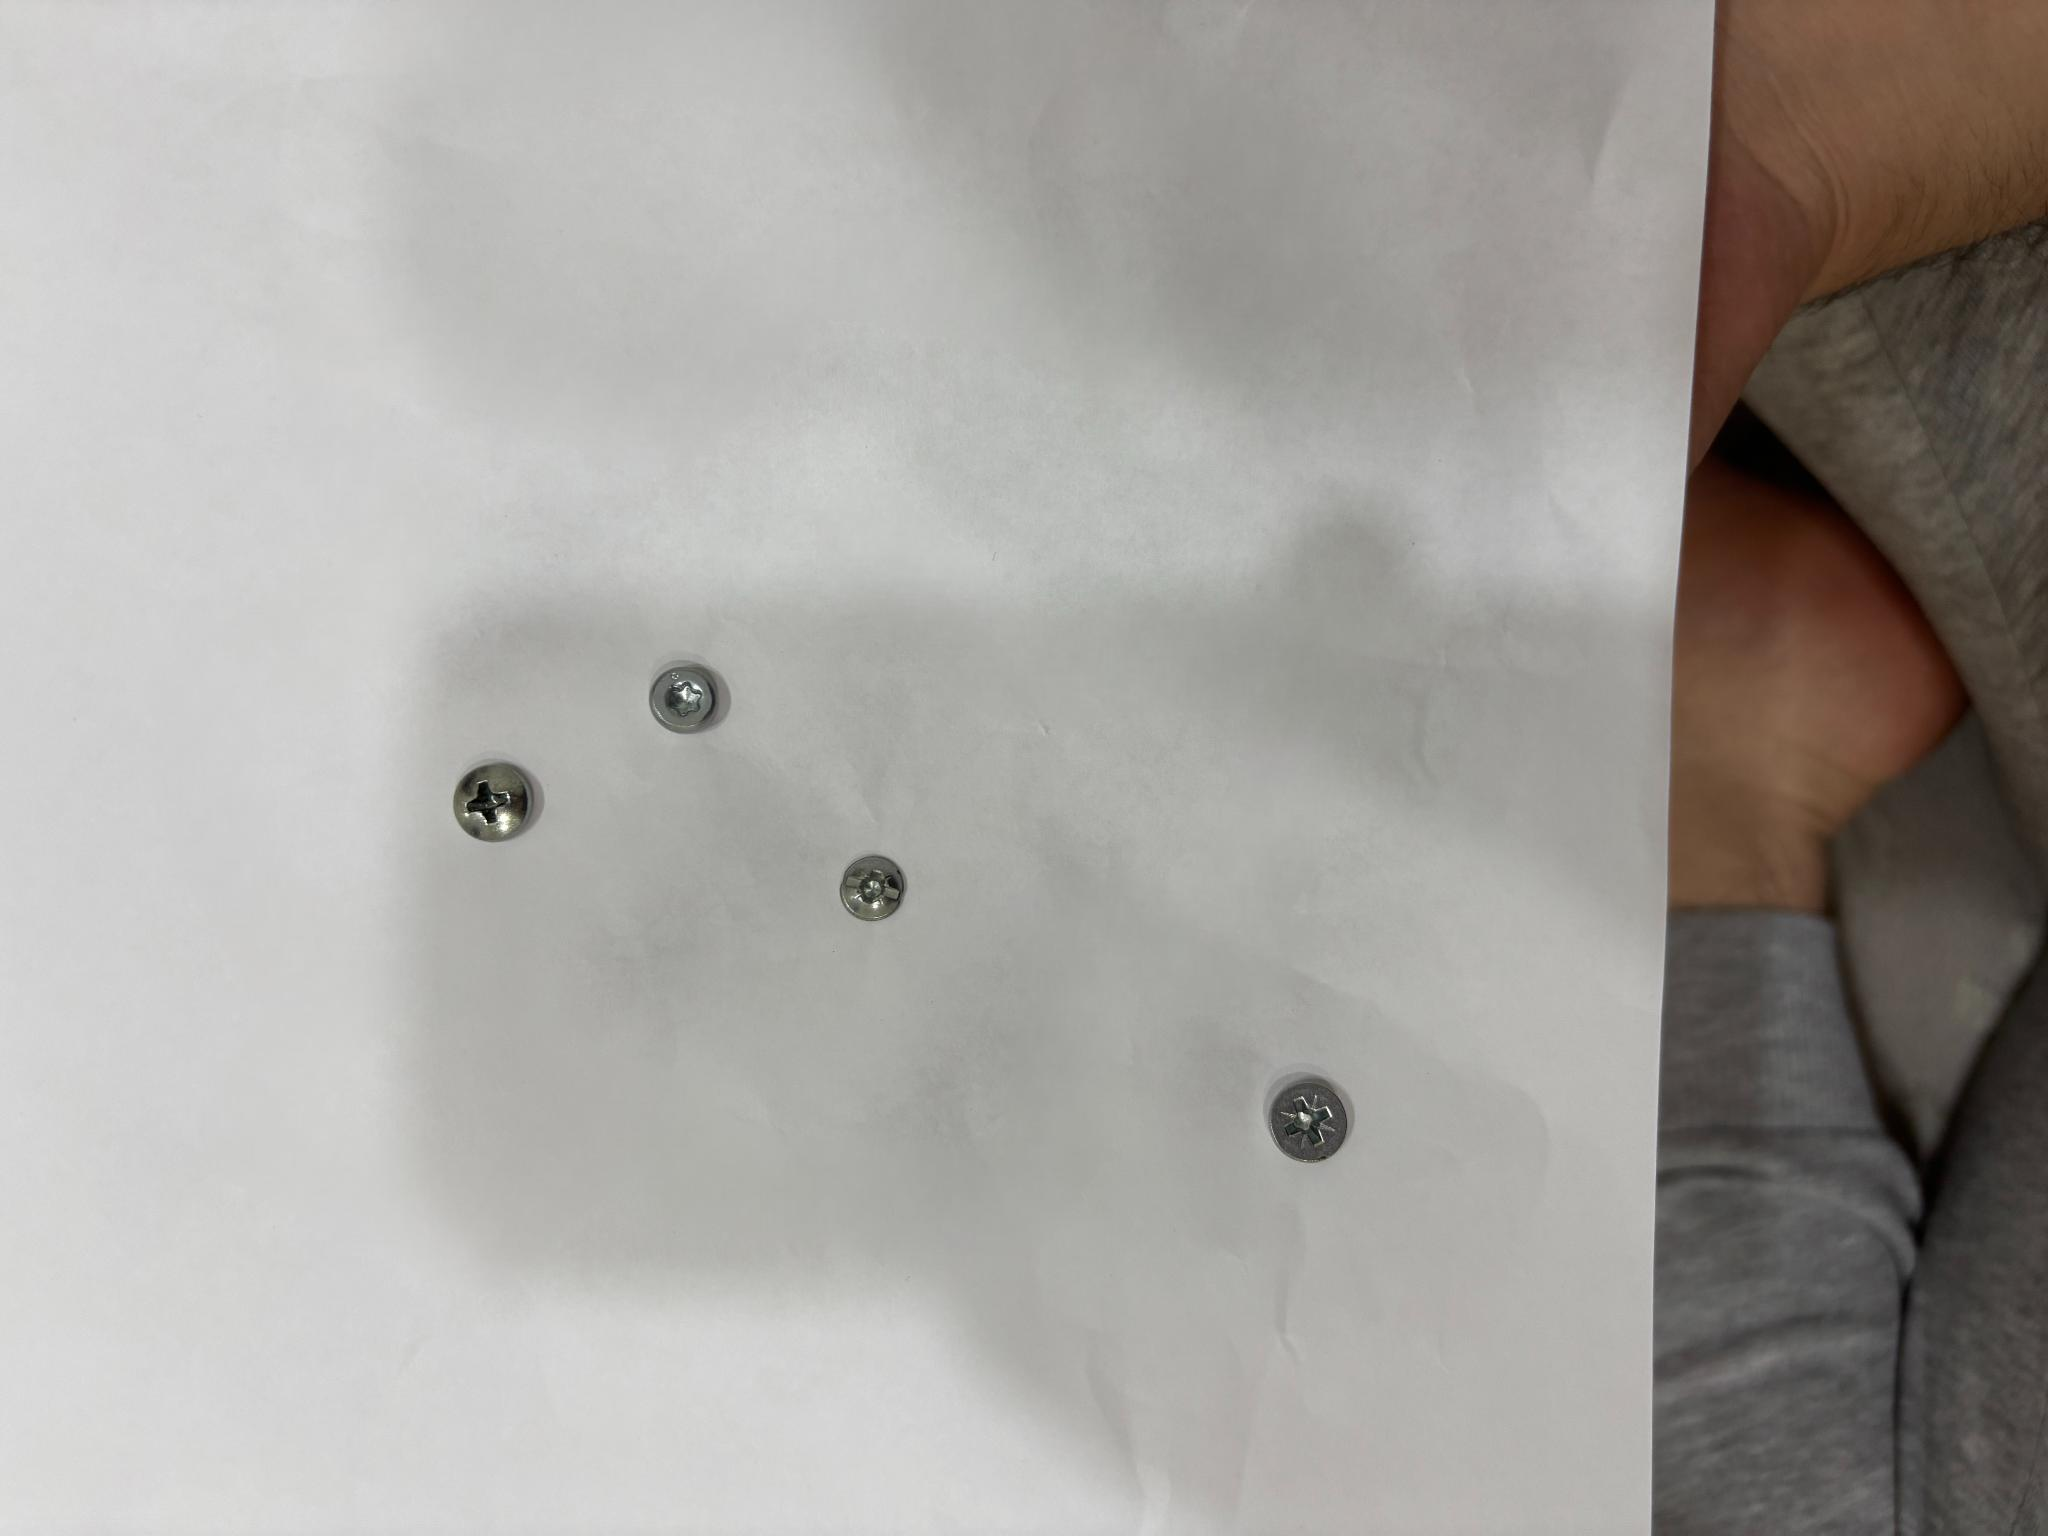PH: (453, 763, 531, 841)
PZ: (1269, 1078, 1348, 1162), (840, 855, 903, 920)
T: (650, 665, 719, 733)
